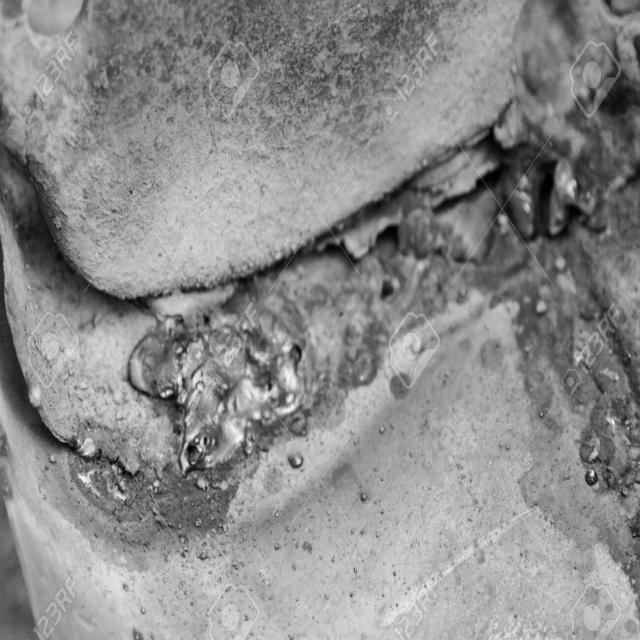Bad Welding: (75, 110, 636, 591)
Porosity: (533, 153, 556, 236), (368, 275, 404, 310), (288, 342, 310, 376)
